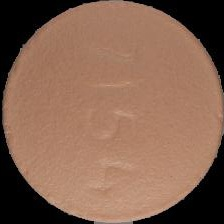55289-293: (0, 0, 224, 224)
